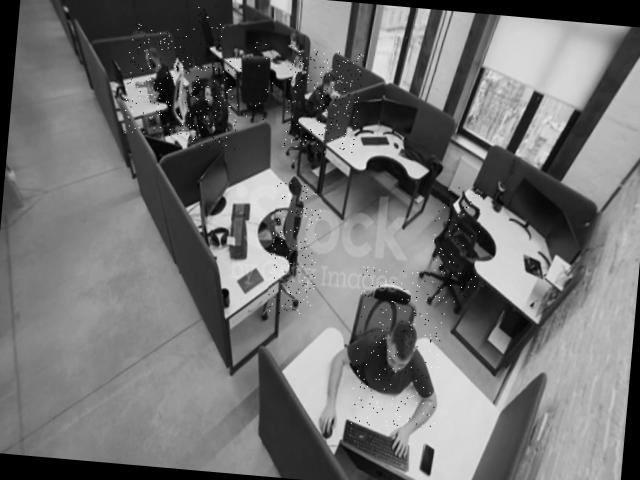empty chair: (266, 182, 323, 317), (427, 186, 483, 308), (232, 38, 280, 123), (188, 3, 225, 62)
occupiedchair: (350, 266, 448, 430), (121, 23, 198, 139), (282, 46, 363, 154), (186, 54, 243, 150)
